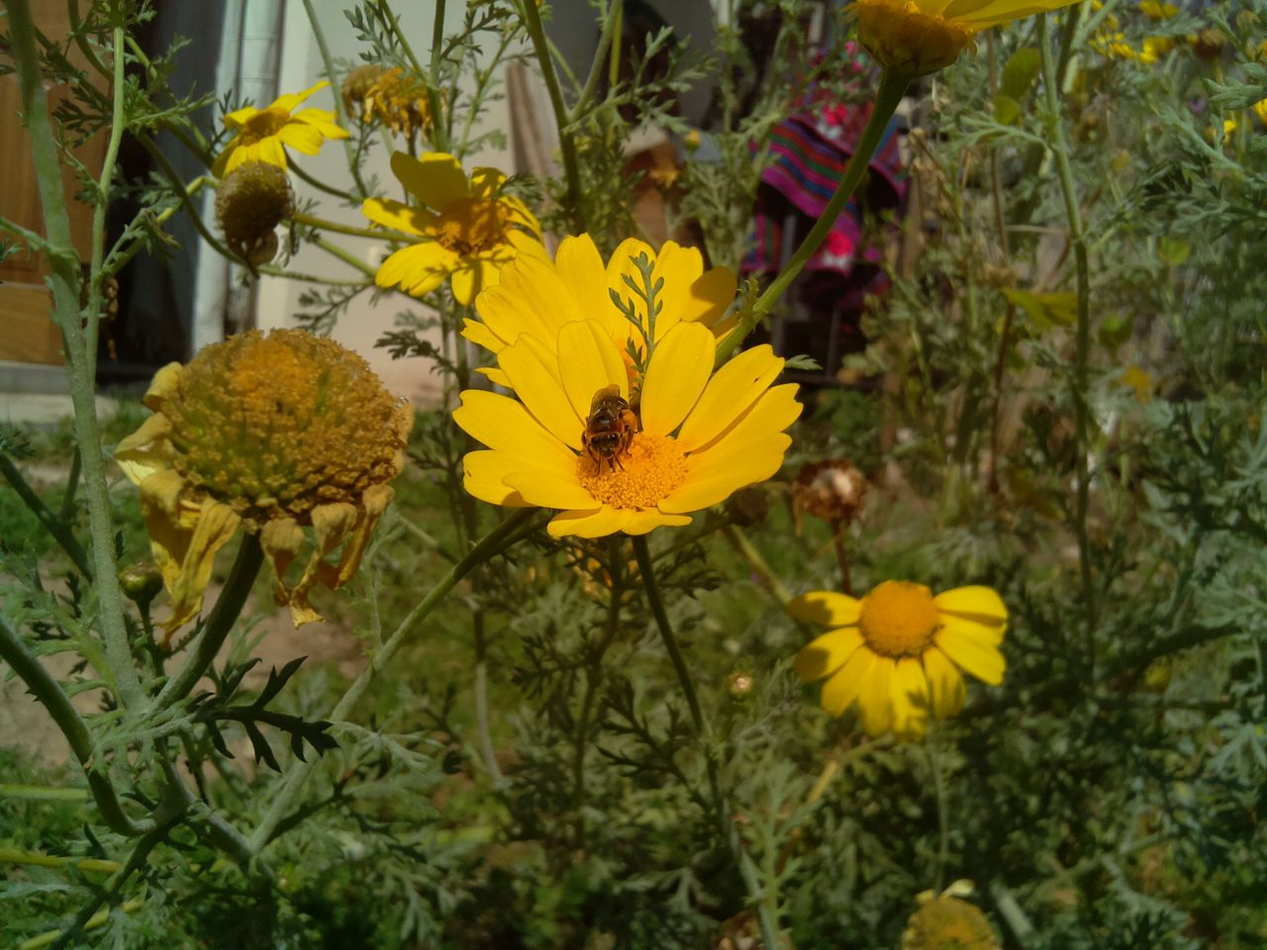Eucera: (554, 379, 656, 476)
